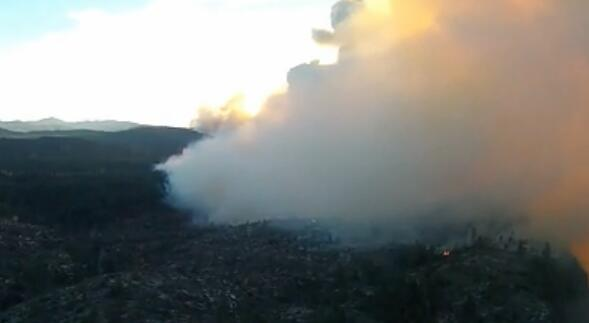yanwu: (151, 1, 588, 254)
